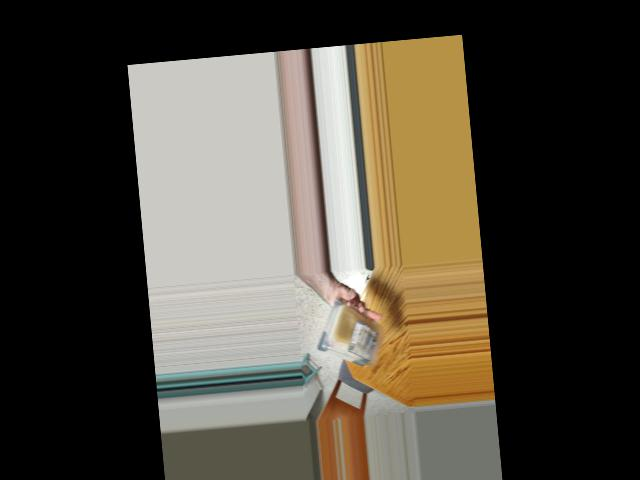cheese: (317, 298, 379, 374)
